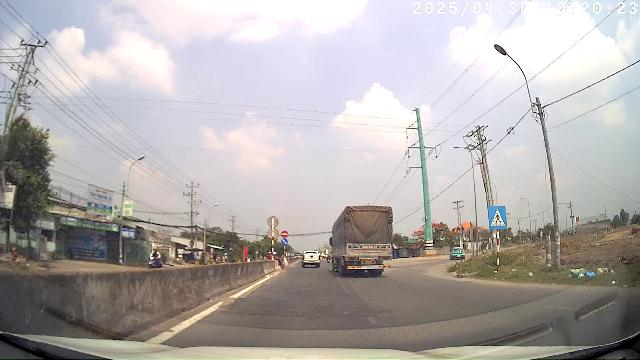102-cam-di-nguoc-chieu: (282, 230, 288, 238)
302a-huong-phai-di-vong-chuong-ngai-vat-1: (282, 238, 288, 246)
423a-duong-nguoi-di-bo-sang-ngang-1: (489, 206, 507, 228)
